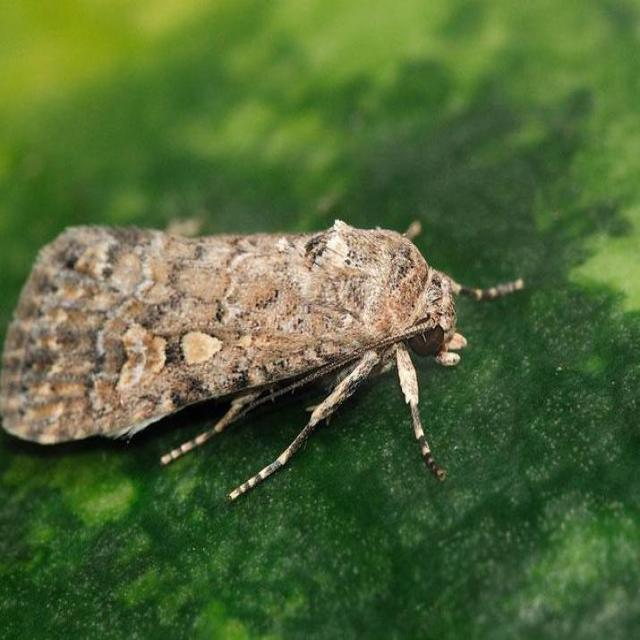BeetArmyWorm-Adult-: (0, 197, 462, 500)
